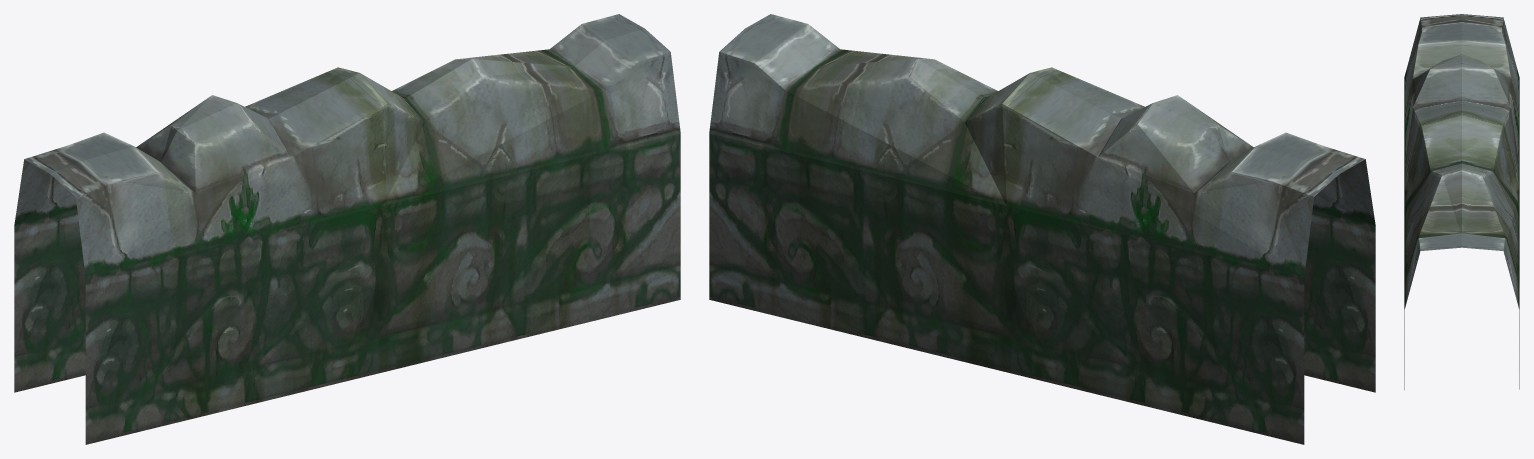
Rendered from stemple_quarter_straight_03.fbx.
3 views of the same model, side by side, from view 1: azimuth 30°, elevation 25°; view 2: azimuth 150°, elevation 25°; view 3: azimuth 270°, elevation 25° (orthographic). The views are drawn at different scales.
Parts seen in each view (by area): view 1: obj0.055; view 2: obj0.055; view 3: obj0.055.
Boxes of the visible parts, bbox=[...] form: obj0.055: bbox=[14, 14, 680, 444]; obj0.055: bbox=[709, 14, 1375, 444]; obj0.055: bbox=[1404, 14, 1519, 389].
Bounding box in the file's own units: 4 × 1.74 × 0.8328.
